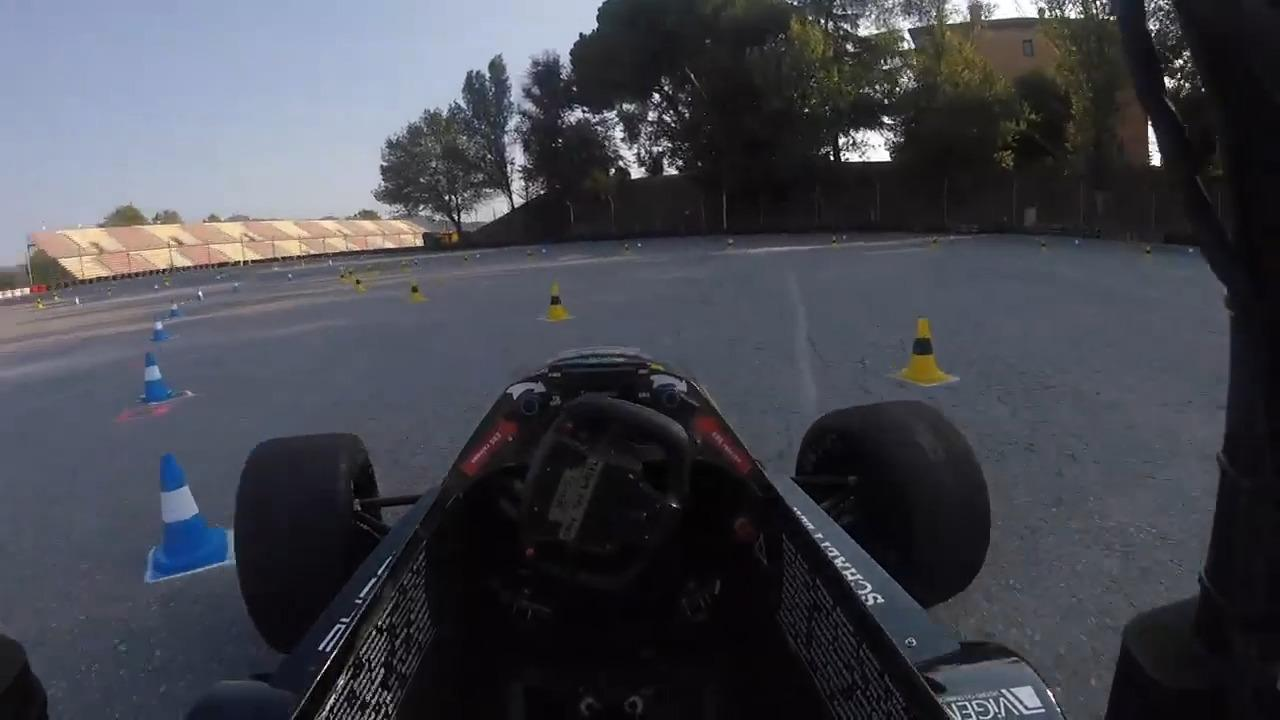blue_cone: (136, 449, 234, 579), (139, 349, 183, 403), (146, 317, 171, 344), (165, 299, 184, 319), (195, 287, 208, 304), (286, 270, 296, 284), (233, 280, 240, 297)
yellow_cone: (897, 312, 958, 390), (543, 281, 575, 324), (406, 278, 428, 305), (354, 275, 369, 298), (31, 296, 46, 310), (400, 260, 412, 274), (1143, 243, 1153, 259), (929, 235, 939, 250), (338, 267, 345, 284), (347, 268, 353, 282), (1041, 240, 1047, 251)
